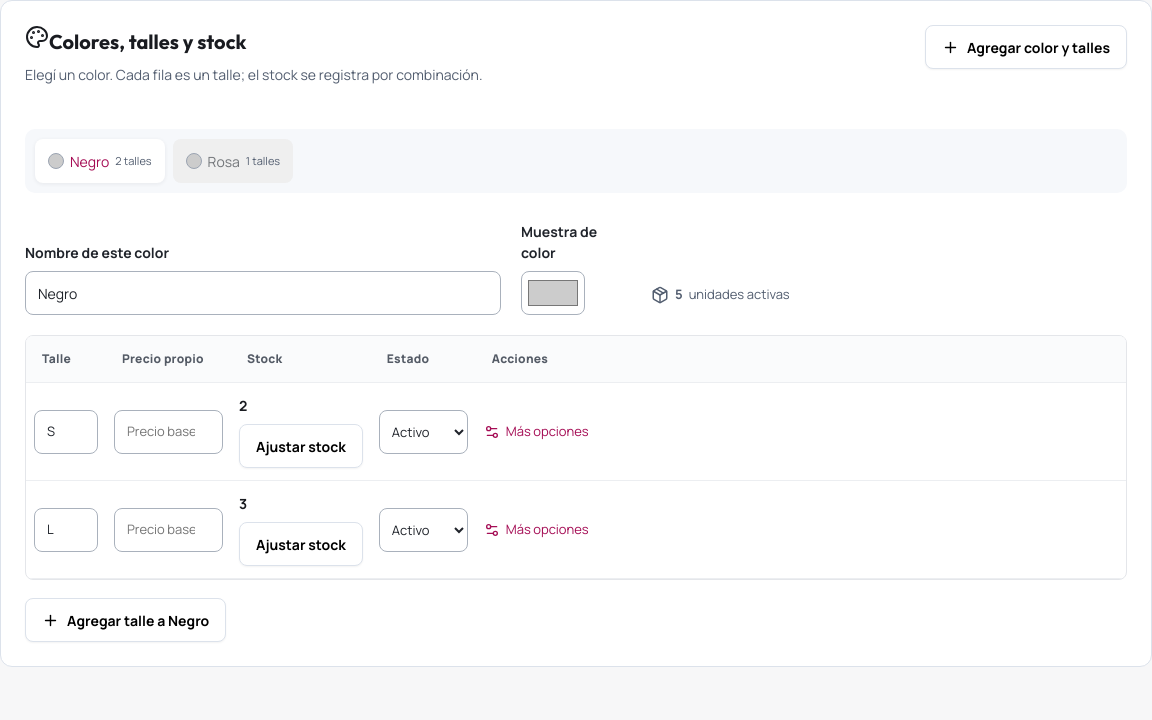
no mezcla dos colores existentes al cambiar su nombre
Replace the text in the field labelled "Nombre de este color" with "Rosa": [263, 293] box [25, 271, 501, 315]
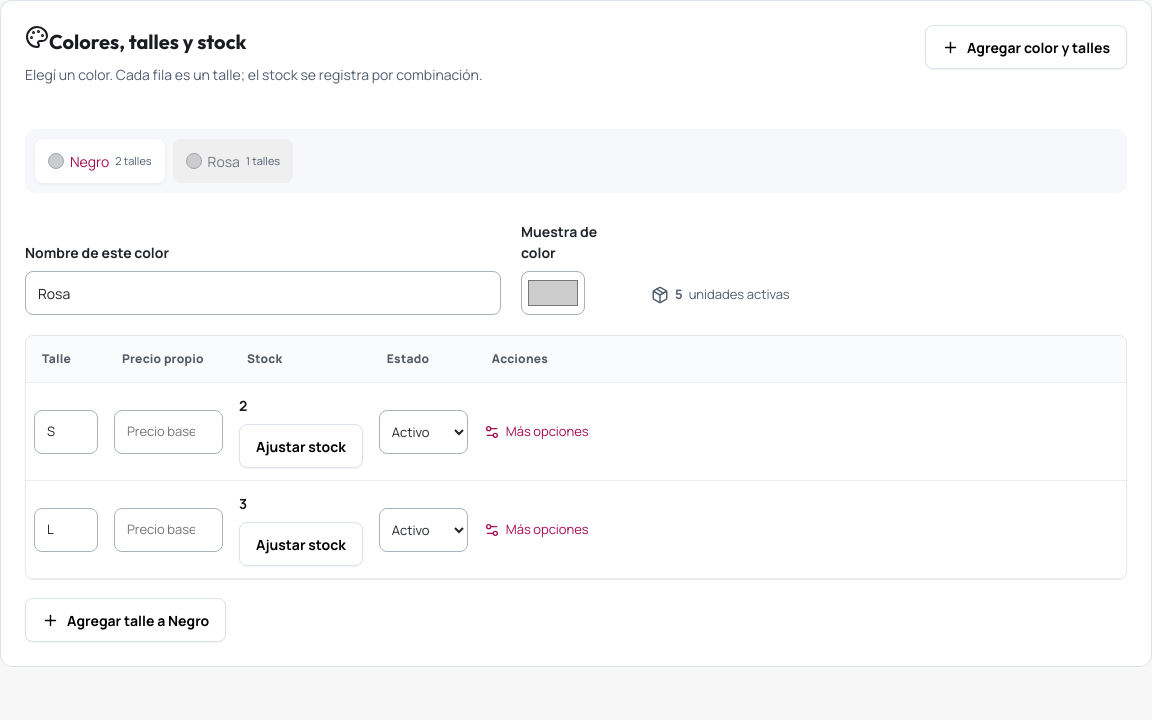
Leave the field labelled "Nombre de este color", box [25, 271, 501, 315]
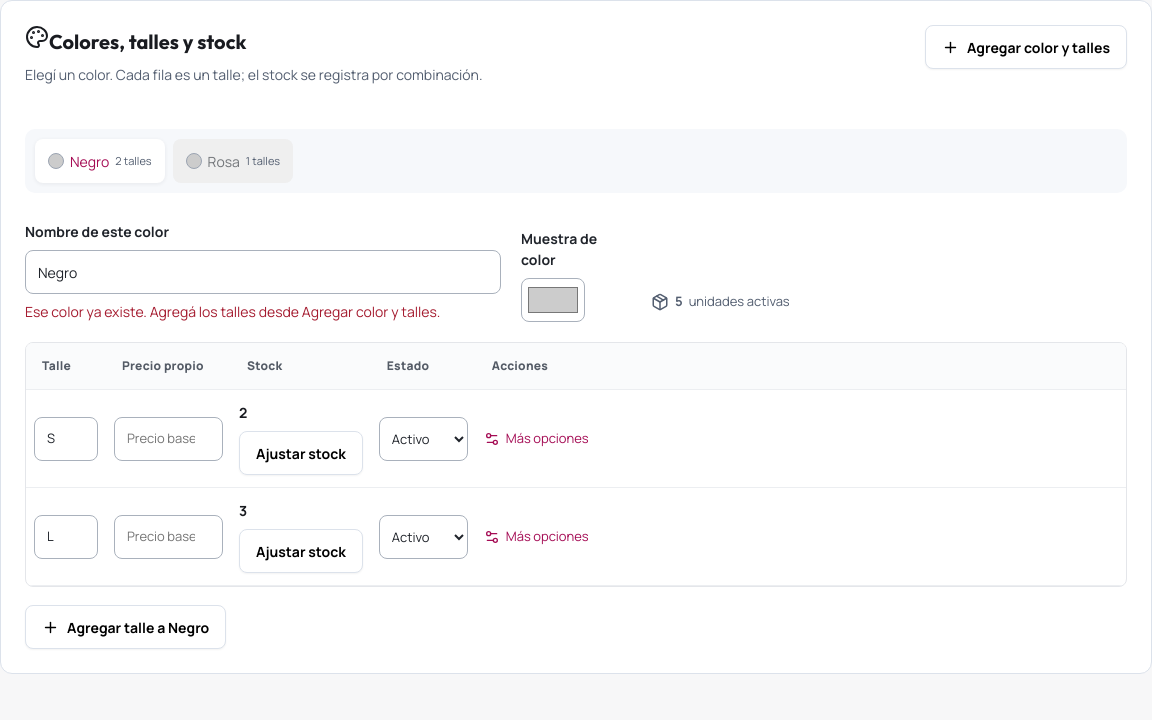
expect the text "Ese color ya existe. Agregá los talles desde Agregar color y talles." is shown: met, box [25, 302, 501, 322]
